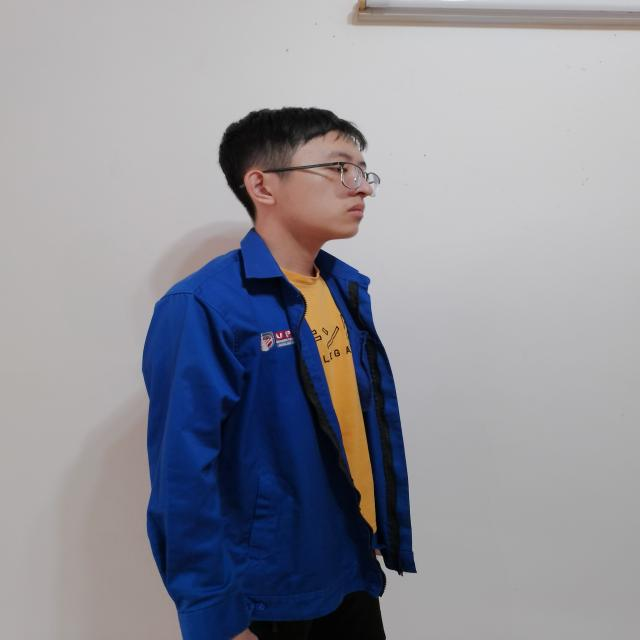person_with_labcoat: (143, 108, 415, 640)
